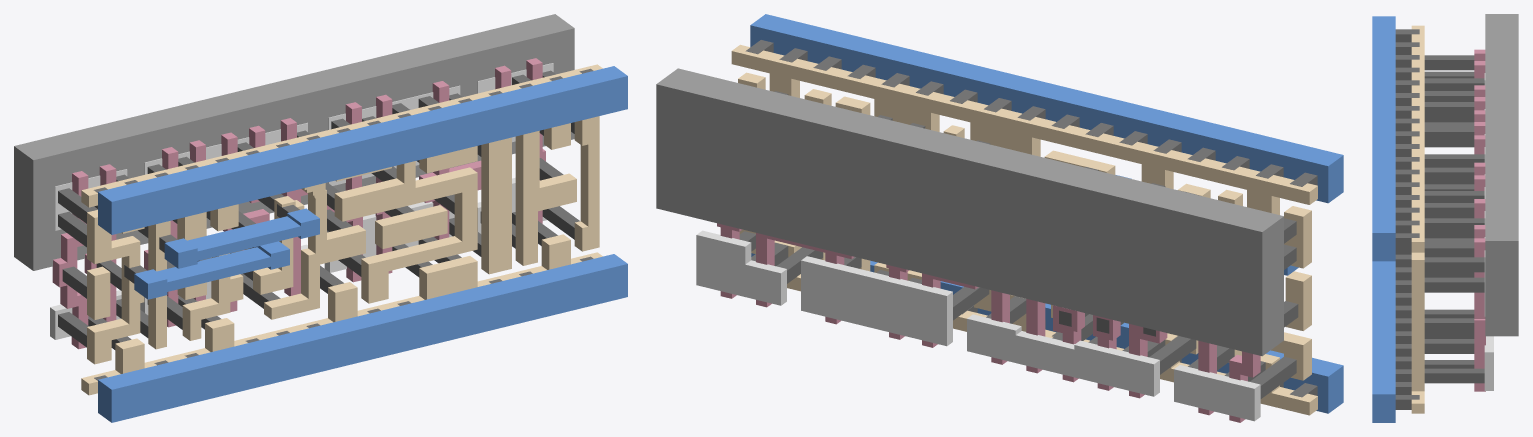
The model's file is sky130_fd_sc_hd__dlrbp_1.gds.gltf.
3 views of the same model, side by side, from view 1: azimuth 30°, elevation 25°; view 2: azimuth 150°, elevation 25°; view 3: azimuth 270°, elevation 25° (orthographic). The views are drawn at different scales.
Parts seen in each view (by area): view 1: sky130_fd_sc_hd__dlrbp_1_met1, sky130_fd_sc_hd__dlrbp_1_li1, sky130_fd_sc_hd__dlrbp_1_nwell, sky130_fd_sc_hd__dlrbp_1_licon, sky130_fd_sc_hd__dlrbp_1_poly, sky130_fd_sc_hd__dlrbp_1_diff, sky130_fd_sc_hd__dlrbp_1_mcon; view 2: sky130_fd_sc_hd__dlrbp_1_nwell, sky130_fd_sc_hd__dlrbp_1_li1, sky130_fd_sc_hd__dlrbp_1_diff, sky130_fd_sc_hd__dlrbp_1_met1, sky130_fd_sc_hd__dlrbp_1_poly, sky130_fd_sc_hd__dlrbp_1_licon, sky130_fd_sc_hd__dlrbp_1_mcon; view 3: sky130_fd_sc_hd__dlrbp_1_licon, sky130_fd_sc_hd__dlrbp_1_nwell, sky130_fd_sc_hd__dlrbp_1_met1, sky130_fd_sc_hd__dlrbp_1_mcon, sky130_fd_sc_hd__dlrbp_1_li1, sky130_fd_sc_hd__dlrbp_1_poly, sky130_fd_sc_hd__dlrbp_1_diff.
Part boxes in pixels (x1=…): sky130_fd_sc_hd__dlrbp_1_met1: x1=98, y1=66, x2=627, y2=422; sky130_fd_sc_hd__dlrbp_1_li1: x1=81, y1=64, x2=602, y2=395; sky130_fd_sc_hd__dlrbp_1_nwell: x1=14, y1=14, x2=574, y2=270; sky130_fd_sc_hd__dlrbp_1_licon: x1=58, y1=70, x2=579, y2=349; sky130_fd_sc_hd__dlrbp_1_poly: x1=52, y1=58, x2=545, y2=349; sky130_fd_sc_hd__dlrbp_1_diff: x1=50, y1=63, x2=553, y2=339; sky130_fd_sc_hd__dlrbp_1_mcon: x1=94, y1=68, x2=593, y2=380; sky130_fd_sc_hd__dlrbp_1_nwell: x1=656, y1=68, x2=1283, y2=356; sky130_fd_sc_hd__dlrbp_1_li1: x1=731, y1=44, x2=1317, y2=415; sky130_fd_sc_hd__dlrbp_1_diff: x1=696, y1=230, x2=1260, y2=421; sky130_fd_sc_hd__dlrbp_1_met1: x1=750, y1=14, x2=1343, y2=413; sky130_fd_sc_hd__dlrbp_1_poly: x1=717, y1=223, x2=1260, y2=422; sky130_fd_sc_hd__dlrbp_1_licon: x1=739, y1=91, x2=1298, y2=398; sky130_fd_sc_hd__dlrbp_1_mcon: x1=745, y1=40, x2=1317, y2=397; sky130_fd_sc_hd__dlrbp_1_licon: x1=1424, y1=55, x2=1484, y2=383; sky130_fd_sc_hd__dlrbp_1_nwell: x1=1485, y1=14, x2=1518, y2=336; sky130_fd_sc_hd__dlrbp_1_met1: x1=1372, y1=16, x2=1395, y2=422; sky130_fd_sc_hd__dlrbp_1_mcon: x1=1395, y1=29, x2=1419, y2=409; sky130_fd_sc_hd__dlrbp_1_li1: x1=1411, y1=25, x2=1424, y2=413; sky130_fd_sc_hd__dlrbp_1_poly: x1=1474, y1=49, x2=1485, y2=391; sky130_fd_sc_hd__dlrbp_1_diff: x1=1484, y1=73, x2=1493, y2=390.
Bounding box in the file's own units: 8.2 × 3.2 × 2.24.
